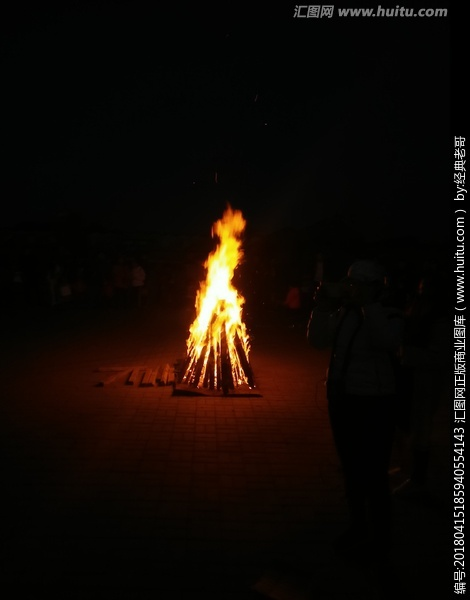fire: (185, 200, 252, 384)
